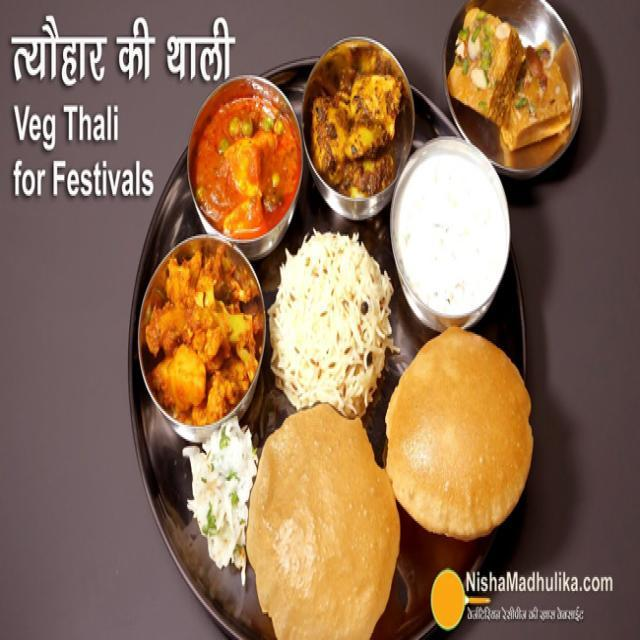curd: (390, 132, 513, 321)
papad: (241, 395, 396, 640), (383, 325, 531, 538)
raita: (390, 139, 513, 321)
rice: (264, 219, 393, 425), (183, 416, 261, 555)
roti: (240, 402, 397, 640)
veg-fry: (178, 58, 304, 264)
